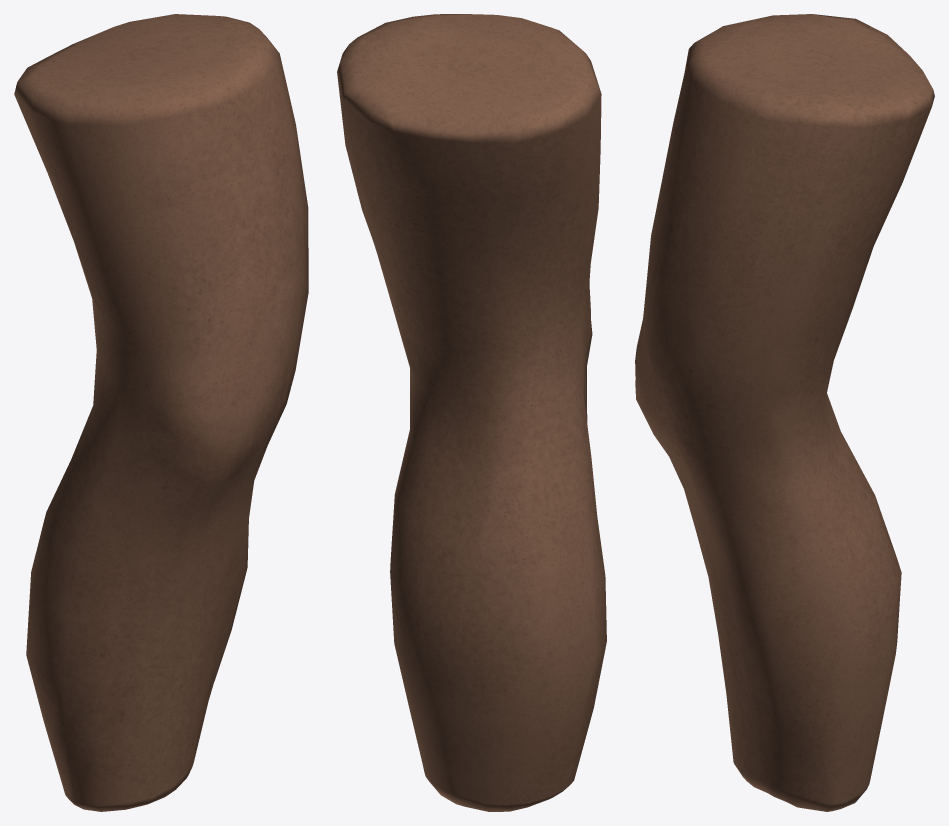
The model's file is KneeSkin.gltf.
3 views of the same model, side by side, from view 1: azimuth 30°, elevation 25°; view 2: azimuth 150°, elevation 25°; view 3: azimuth 270°, elevation 25° (orthographic). The views are drawn at different scales.
Parts seen in each view (by area): view 1: Skin_low; view 2: Skin_low; view 3: Skin_low.
Part boxes in pixels (bbox=[...]): Skin_low: bbox=[14, 14, 308, 811]; Skin_low: bbox=[337, 14, 606, 811]; Skin_low: bbox=[635, 14, 934, 811].
Bounding box in the file's own units: 1.7 × 4.95 × 1.77.
1 material, 1 textured.
